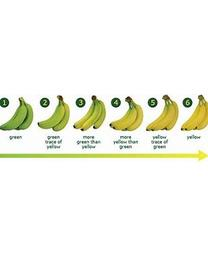banana: (3, 97, 207, 132)
